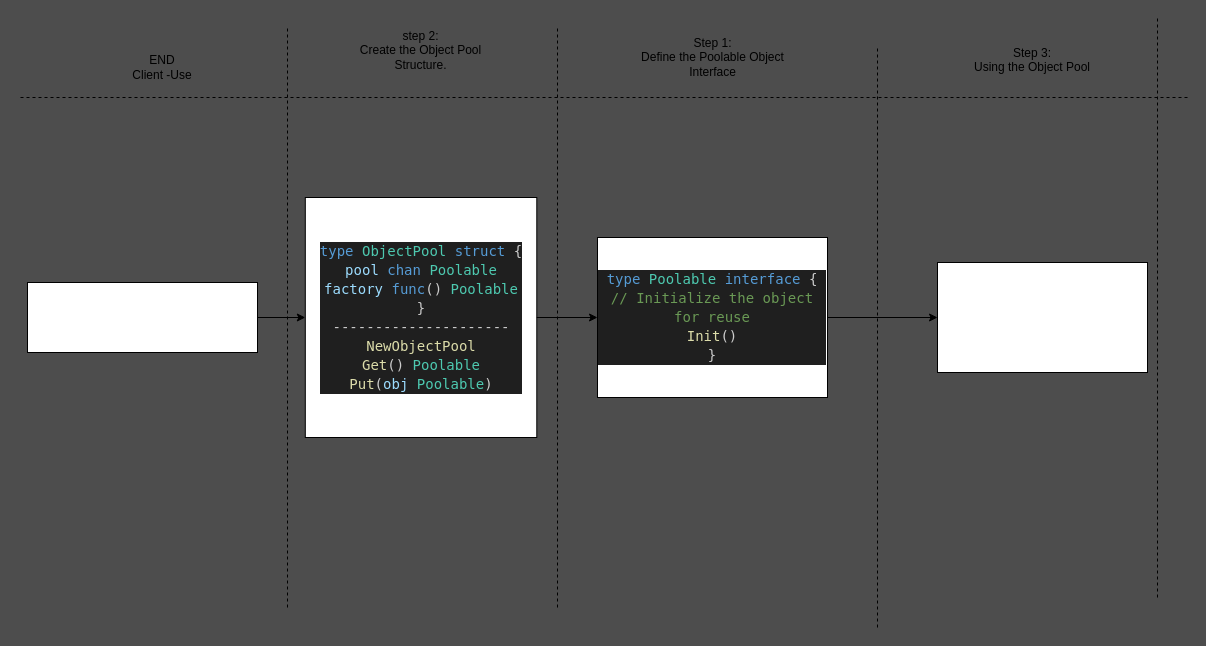
The diagram is 1206 pixels wide and 646 high, and some of its shapes have lost their labels. The centre of each missing label's shape, as x and y in pixels:
Client: point 142,317
type MyObject struct { // ... object fields } ------------- Init (): point 1042,317
